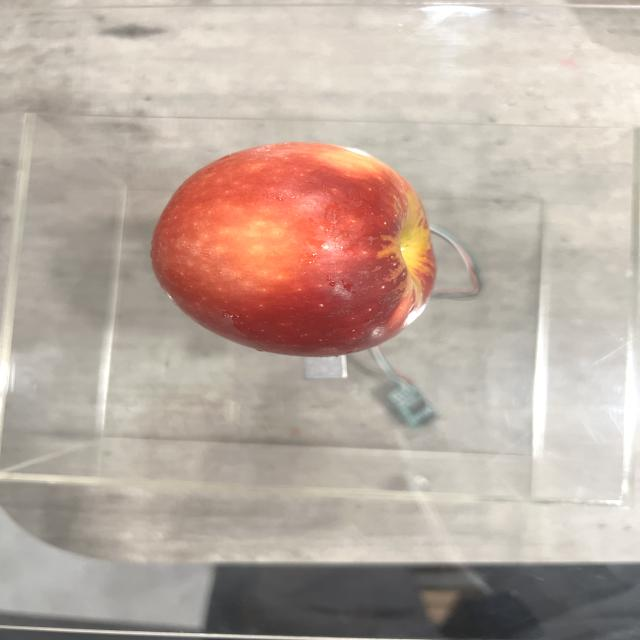red apple: (153, 140, 436, 358)
